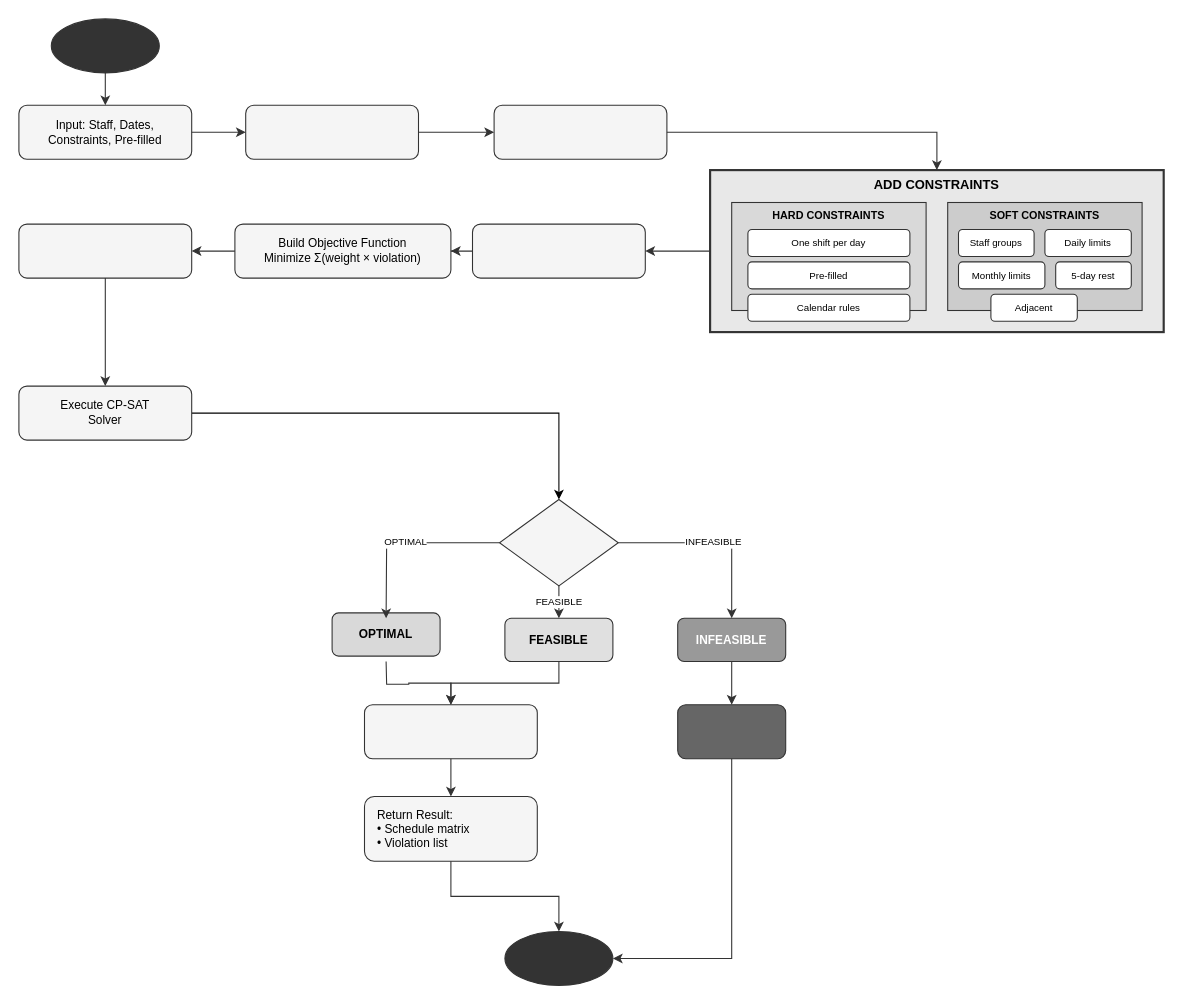
Image size: 1184x1004. Some labels were removed from this diagram. Here are the shapes that lost their labels. From the top down, the centre of each, then its label:
At [104,45]: "START".
At [331,131]: "Initialize CP-SAT Model".
At [580,131]: "Create Decision Variables shifts[s,d,t] ∈ {0,1}".
At [105,250]: "Configure Solver timeout=30s, workers=4".
At [558,250]: "Create Violation Variables Track penalties".
At [558,542]: "Status?".
At [450,731]: "Extract Solution Map to shift symbols".
At [731,731]: "Return Error".
At [558,958]: "END".
